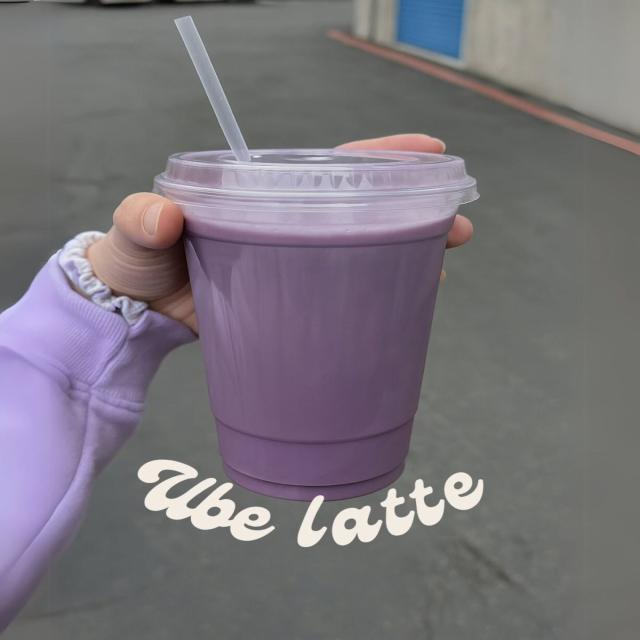plastic cup: (154, 150, 480, 502)
